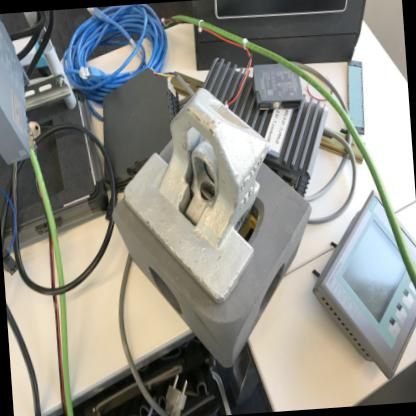CornerCasting: (108, 184, 324, 354)
Twistlock: (113, 78, 281, 313)
